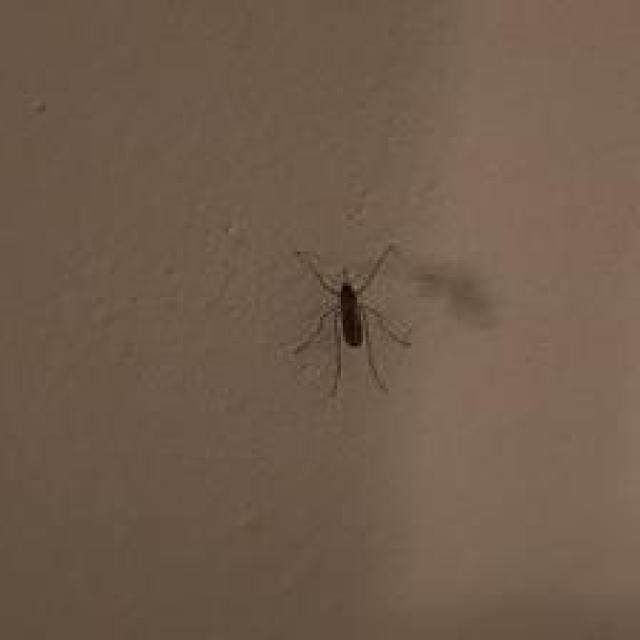Culex: (284, 242, 413, 398)
